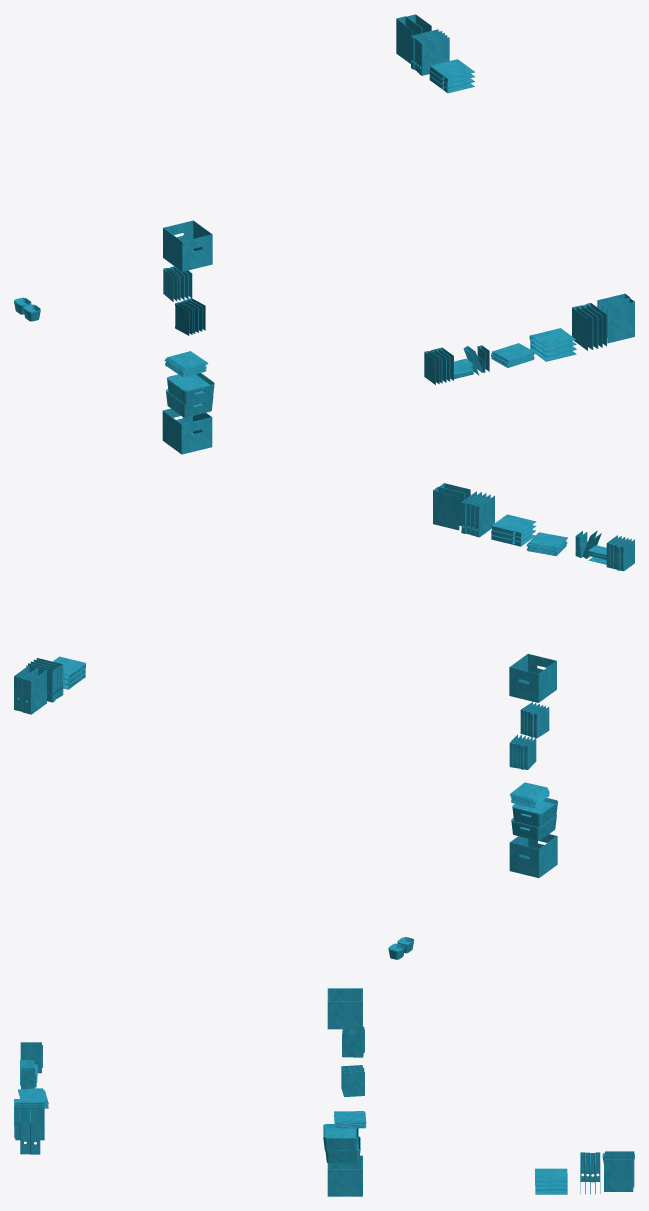
The picture shows the model from 3 angles, top to bottom: view 1: azimuth 30°, elevation 25°; view 2: azimuth 150°, elevation 25°; view 3: azimuth 270°, elevation 25°; orthographic projection. The views are drawn at different scales.
Size of the model in its own units: 4.28 by 2.21 by 6.14.
Materials: 1 (1 with a texture image).
